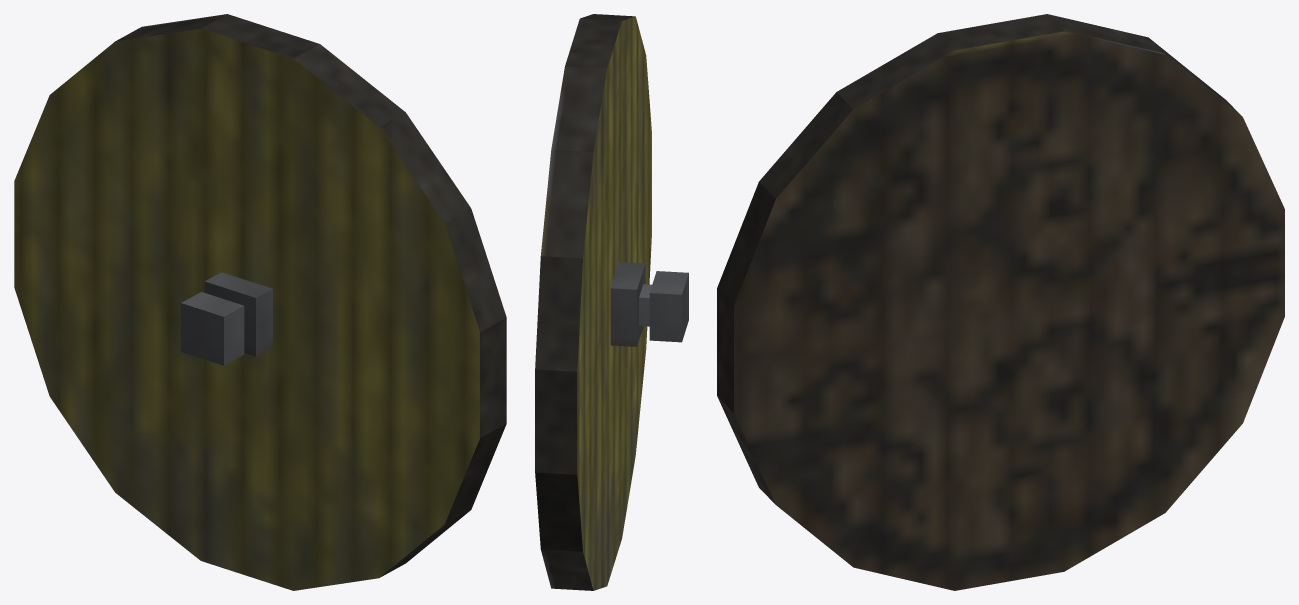
The model's file is hobbit_door_3x3_yellow_open.obj.
3 views of the same model, side by side, from view 1: azimuth 30°, elevation 25°; view 2: azimuth 150°, elevation 25°; view 3: azimuth 270°, elevation 25° (orthographic). The views are drawn at different scales.
Parts seen in each view (by area): view 1: cylinder, cube; view 2: cylinder, cube; view 3: cylinder.
Part boxes in pixels (x1=…): cylinder: x1=14, y1=14, x2=506, y2=590; cube: x1=181, y1=272, x2=272, y2=365; cylinder: x1=535, y1=14, x2=651, y2=590; cube: x1=610, y1=262, x2=688, y2=346; cylinder: x1=717, y1=14, x2=1284, y2=590.
Size of the model in its own units: 1.16 by 2.57 by 2.44.
